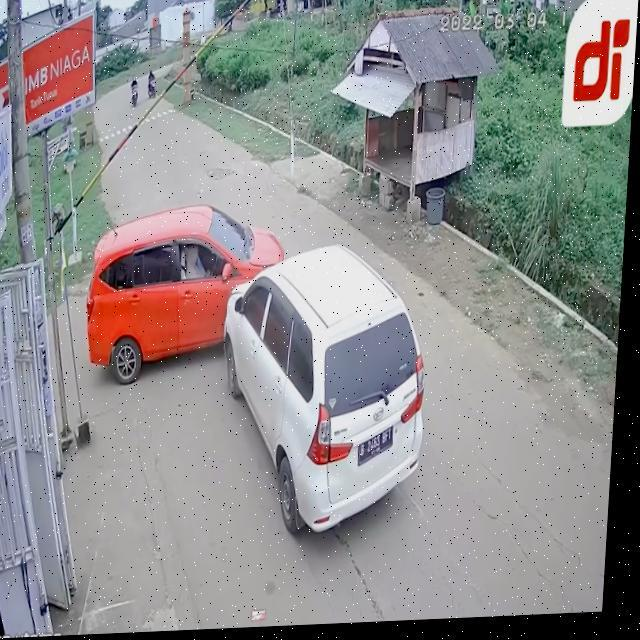multiple_accident: (63, 155, 448, 537)
